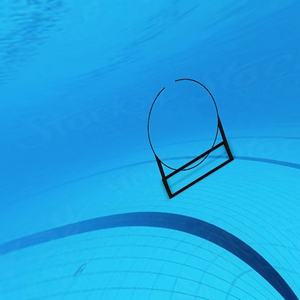circle: (140, 78, 241, 200)
